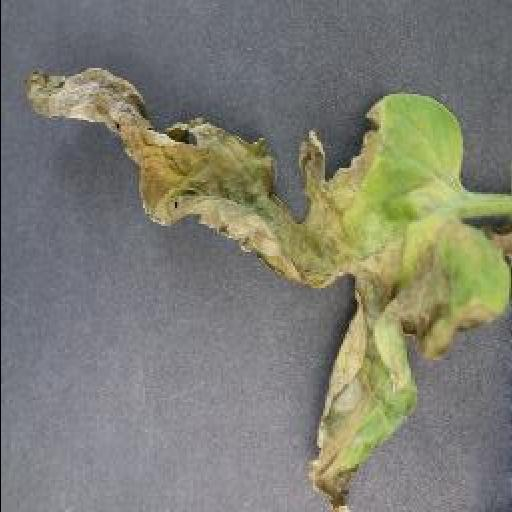disease_tomato: (24, 64, 512, 510)
